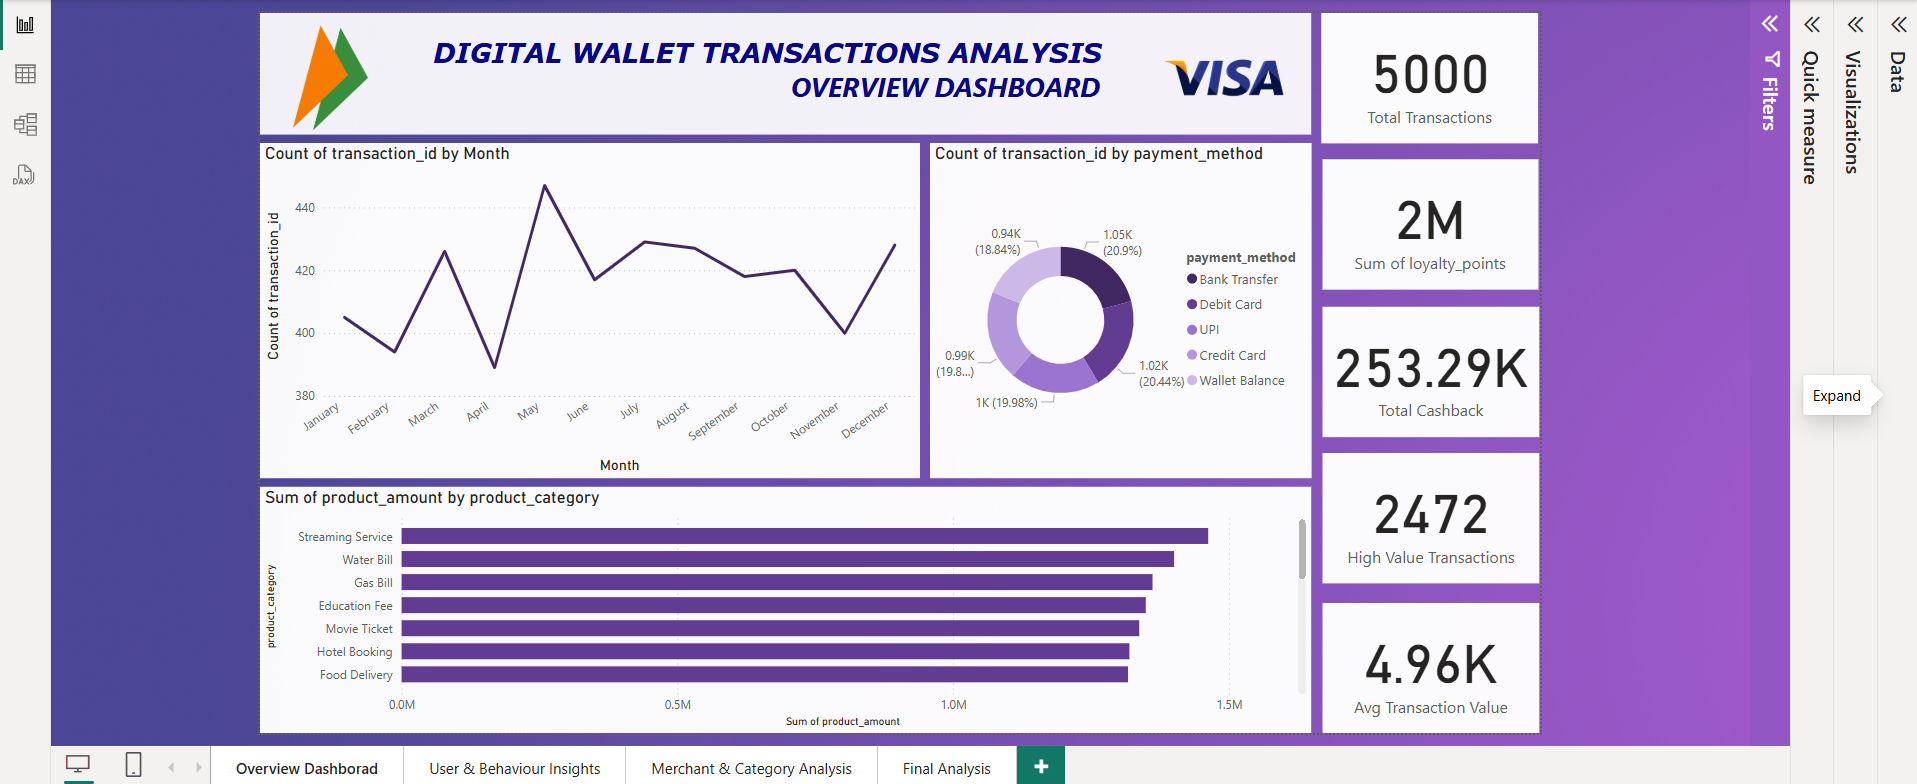

The page's visual inventory and layout, read from the dashboard file:
{"tool":"powerbi","page":{"name":"Overview Dashborad","canvas":[1280,720],"ordinal":0},"visuals":[{"type":"card","fields":{"Values":["Transactions.Total Transactions"]},"box":[1061.4,0,217.1,130],"z":0},{"type":"card","fields":{"Values":["Transactions.Total Cashback"]},"box":[1062.9,294.3,217.1,130],"z":1000},{"type":"card","fields":{"Values":["Transactions.Avg Transaction Value"]},"box":[1062.9,590,217.1,130],"z":2000},{"type":"card","fields":{"Values":["Transactions.High Value Transactions"]},"box":[1062.9,440,217.1,130],"z":3000},{"type":"card","fields":{"Values":["Sum(Transactions.loyalty_points)"]},"box":[1062.9,145.7,215.7,130],"z":4000},{"type":"lineChart","fields":{"Category":["Transactions.transaction_date.Variation.Date Hierarchy.Month","Transactions.transaction_date.Variation.Date Hierarchy.Day"],"Y":["CountNonNull(Transactions.transaction_id)"]},"box":[0,130,660,335],"z":5000},{"type":"donutChart","fields":{"Category":["Transactions.payment_method"],"Y":["CountNonNull(Transactions.transaction_id)"]},"box":[670,130,381.2,335],"z":6000},{"type":"barChart","fields":{"Category":["Transactions.product_category"],"Y":["Sum(Transactions.product_amount)"]},"box":[0,473.8,1051.2,246.2],"z":7000},{"type":"textbox","box":[0,0,1051.2,121.2],"z":8000},{"type":"image","box":[893.8,0,138.8,130],"z":9000},{"type":"image","box":[0,0,136.2,130],"z":10000}]}

Visuals, with their boxes on the page's 1280x720 design canvas (x1, y1, x2, y2). These are canvas units, not pixel positions in the 1917x784 screenshot, which may show the page scaled, cropped or inside an application window:
card - Transactions.Total Transactions: [x1=1061, y1=0, x2=1278, y2=130]
card - Transactions.Total Cashback: [x1=1063, y1=294, x2=1280, y2=424]
card - Transactions.Avg Transaction Value: [x1=1063, y1=590, x2=1280, y2=720]
card - Transactions.High Value Transactions: [x1=1063, y1=440, x2=1280, y2=570]
card - Sum(Transactions.loyalty_points): [x1=1063, y1=146, x2=1279, y2=276]
lineChart - Transactions.transaction_date.Variation.Date Hierarchy.Month x Transactions.transaction_date.Variation.Date Hierarchy.Day: [x1=0, y1=130, x2=660, y2=465]
donutChart - Transactions.payment_method x CountNonNull(Transactions.transaction_id): [x1=670, y1=130, x2=1051, y2=465]
barChart - Transactions.product_category x Sum(Transactions.product_amount): [x1=0, y1=474, x2=1051, y2=720]
textbox: [x1=0, y1=0, x2=1051, y2=121]
image: [x1=894, y1=0, x2=1033, y2=130]
image: [x1=0, y1=0, x2=136, y2=130]
